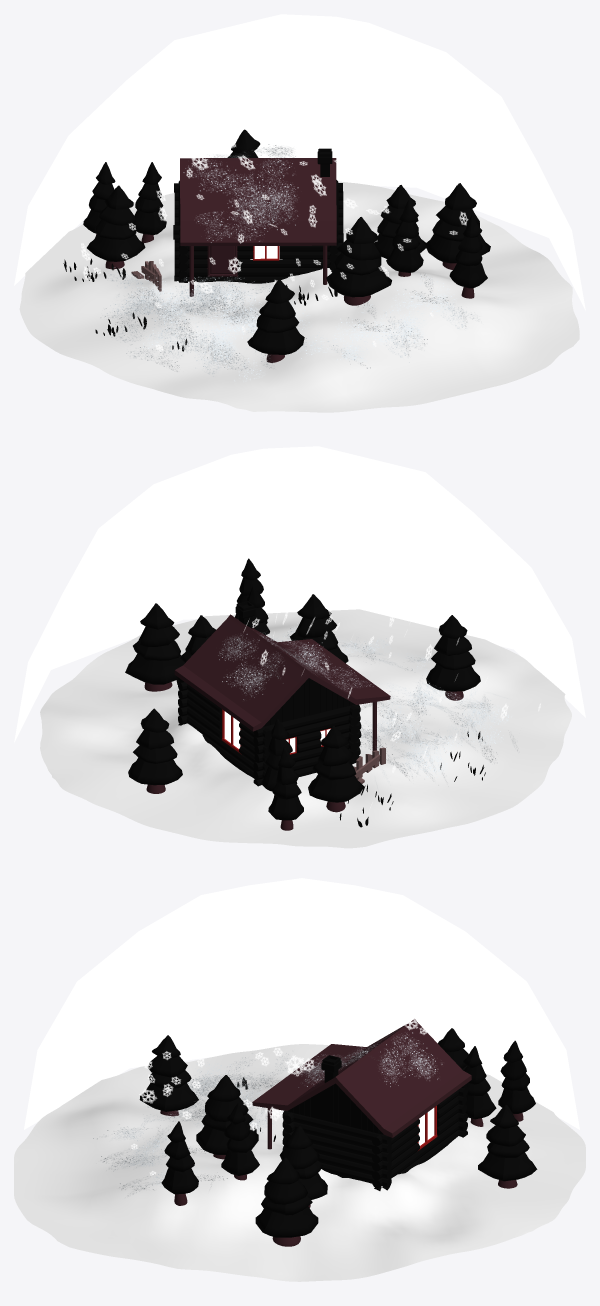
File: snow_cabin.glb
3 views of the same model, one above another, from view 1: azimuth 30°, elevation 25°; view 2: azimuth 150°, elevation 25°; view 3: azimuth 270°, elevation 25° (orthographic).
Visible parts, largest first — view 1: Object_2, Object_10, Object_7, Object_3, Object_11, Object_6, Object_12, Object_4; view 2: Object_10, Object_2, Object_3, Object_7, Object_6, Object_11, Object_4, Object_12, Object_5, Object_9; view 3: Object_10, Object_2, Object_3, Object_7, Object_6, Object_12, Object_4, Object_11.
Part boxes in pixels (left/top/right/bottom): Object_2: left=19, top=181, right=579, bottom=412; Object_10: left=14, top=14, right=585, bottom=310; Object_7: left=95, top=158, right=474, bottom=362; Object_3: left=63, top=129, right=490, bottom=354; Object_11: left=100, top=144, right=479, bottom=381; Object_6: left=173, top=148, right=343, bottom=283; Object_12: left=43, top=77, right=468, bottom=351; Object_4: left=138, top=164, right=487, bottom=288; Object_10: left=14, top=446, right=585, bottom=742; Object_2: left=40, top=609, right=571, bottom=848; Object_3: left=125, top=558, right=485, bottom=827; Object_7: left=144, top=614, right=463, bottom=830; Object_6: left=178, top=601, right=361, bottom=786; Object_11: left=218, top=623, right=517, bottom=785; Object_4: left=188, top=561, right=338, bottom=756; Object_12: left=243, top=469, right=540, bottom=807; Object_5: left=354, top=747, right=385, bottom=783; Object_9: left=224, top=711, right=330, bottom=752; Object_10: left=24, top=878, right=579, bottom=1129; Object_2: left=14, top=1044, right=585, bottom=1281; Object_3: left=139, top=1028, right=537, bottom=1237; Object_7: left=160, top=1019, right=523, bottom=1246; Object_6: left=282, top=1055, right=467, bottom=1190; Object_12: left=103, top=893, right=491, bottom=1175; Object_4: left=161, top=1048, right=486, bottom=1194; Object_11: left=93, top=1032, right=442, bottom=1195.
Size of the model in its own units: 22.93 by 12.32 by 22.42.
Materials: 10 (3 with a texture image).
